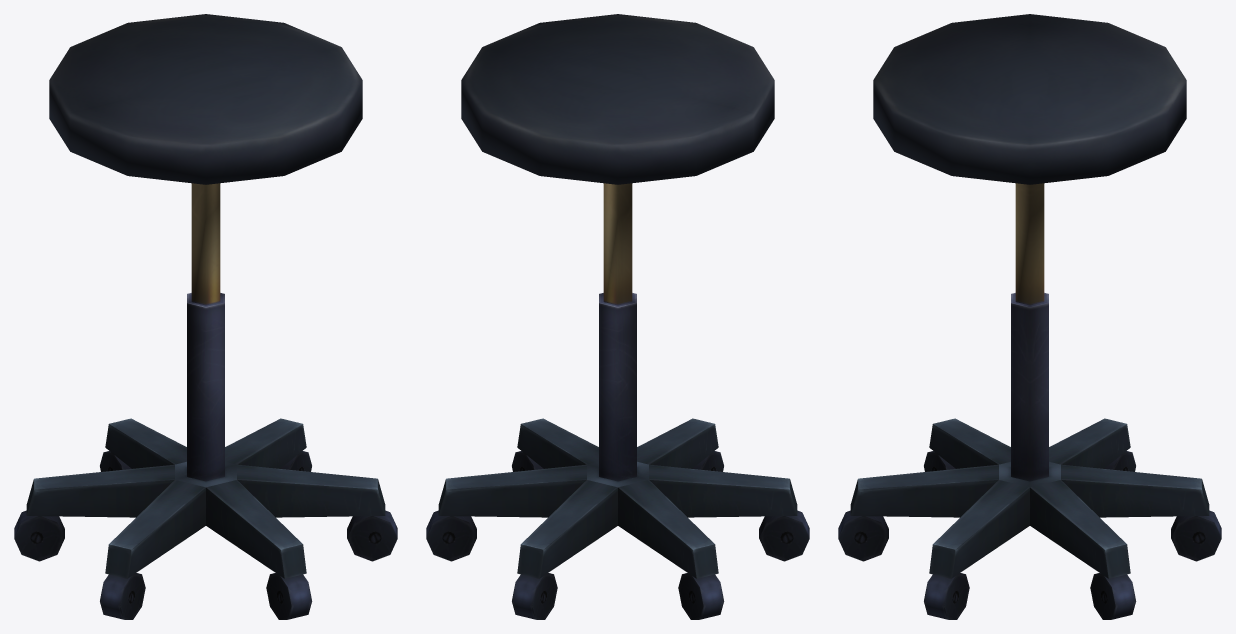
The model's file is SiZheBingFang_01_yizi_01.FBX.
The picture shows the model from 3 angles, left to right: view 1: azimuth 30°, elevation 25°; view 2: azimuth 150°, elevation 25°; view 3: azimuth 270°, elevation 25°; orthographic projection.
Parts seen in each view (by area): view 1: SiZheBingFang_yizi_01; view 2: SiZheBingFang_yizi_01; view 3: SiZheBingFang_yizi_01.
Boxes of the visible parts, left/top/right/bottom form: SiZheBingFang_yizi_01: left=14, top=14, right=397, bottom=619; SiZheBingFang_yizi_01: left=426, top=14, right=809, bottom=619; SiZheBingFang_yizi_01: left=838, top=14, right=1221, bottom=619.
Bounding box in the file's own units: 172 × 263 × 192.
